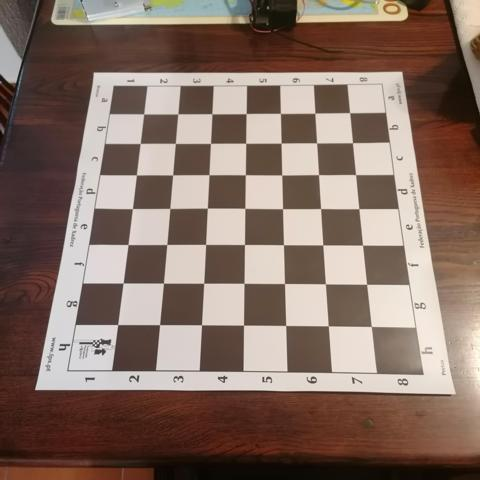xcorner: (309, 104, 324, 119), (274, 104, 289, 119), (239, 104, 254, 119), (205, 104, 220, 119), (136, 105, 151, 120), (239, 134, 254, 149), (203, 134, 218, 149), (168, 134, 183, 149), (350, 166, 365, 181), (312, 166, 327, 181), (275, 166, 290, 181), (238, 166, 253, 181), (165, 166, 180, 181), (128, 166, 143, 181), (353, 200, 368, 215), (276, 200, 291, 215), (238, 200, 253, 215), (200, 200, 215, 215), (162, 200, 177, 215), (124, 200, 139, 215), (277, 237, 292, 252), (237, 237, 252, 252), (198, 237, 213, 252), (119, 237, 134, 252), (360, 277, 375, 292), (319, 277, 334, 292), (196, 276, 211, 291), (155, 276, 170, 291), (114, 276, 129, 291), (236, 319, 251, 334), (151, 318, 166, 333), (109, 318, 124, 333), (170, 105, 185, 119), (311, 134, 325, 149), (275, 134, 289, 149), (132, 135, 147, 149), (202, 166, 216, 181), (315, 200, 329, 215), (357, 237, 371, 252), (317, 237, 331, 252), (159, 237, 173, 252), (278, 277, 293, 291), (237, 276, 251, 291), (322, 319, 336, 334), (279, 319, 293, 334), (193, 319, 208, 333), (344, 104, 358, 118), (347, 134, 361, 148), (365, 320, 379, 334)
